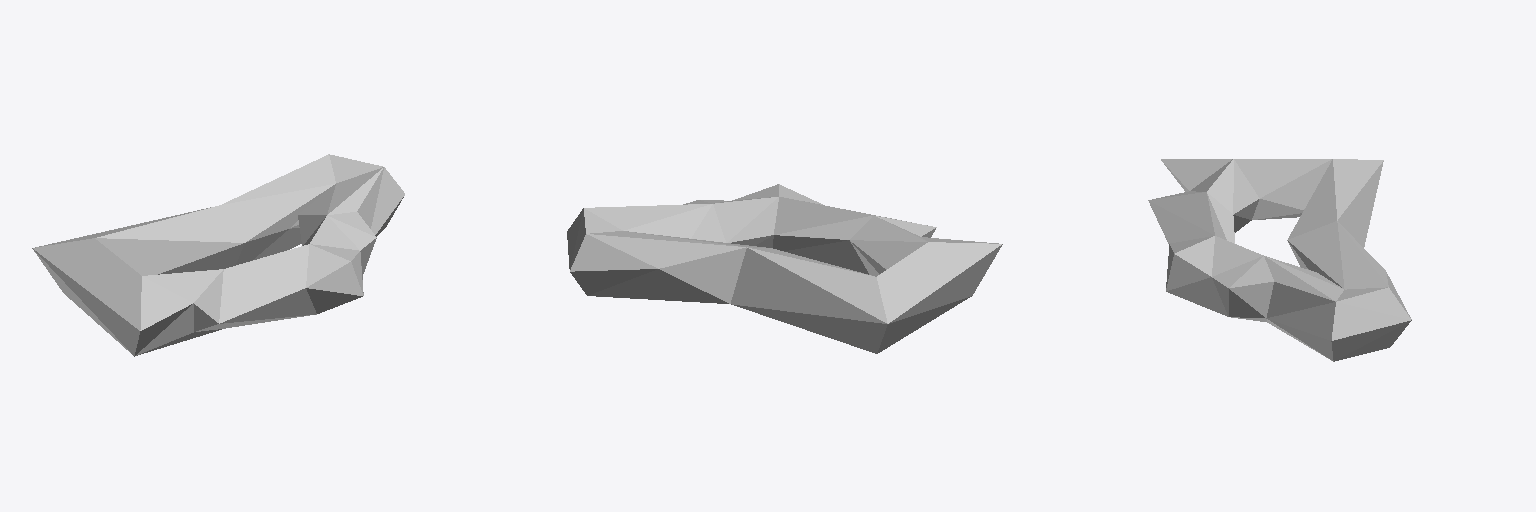
The model's file is SI_outline.obj.
3 views of the same model, side by side, from view 1: azimuth 30°, elevation 25°; view 2: azimuth 150°, elevation 25°; view 3: azimuth 270°, elevation 25° (orthographic).
Visible parts, largest first — view 1: SI.001_CUCurve.047; view 2: SI.001_CUCurve.047; view 3: SI.001_CUCurve.047.
Part boxes in pixels (x1,y1,x2,y2): SI.001_CUCurve.047: (32, 154, 404, 356); SI.001_CUCurve.047: (567, 184, 1002, 353); SI.001_CUCurve.047: (1148, 159, 1411, 361).
Size of the model in its own units: 0.0233 by 0.004 by 0.0152.